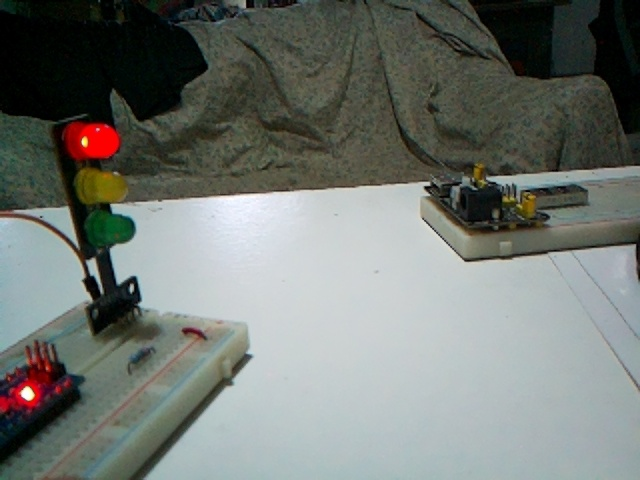traffic_light_red: (54, 116, 140, 335)
